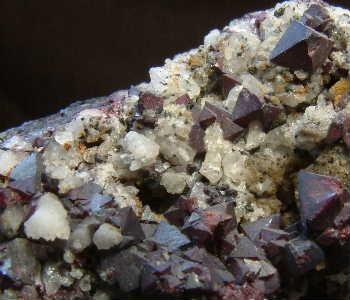cuprite: (98, 209, 280, 300), (218, 170, 348, 288), (66, 184, 137, 232), (271, 21, 335, 72), (190, 105, 217, 167), (233, 88, 271, 130), (10, 151, 44, 194), (294, 124, 333, 154)
